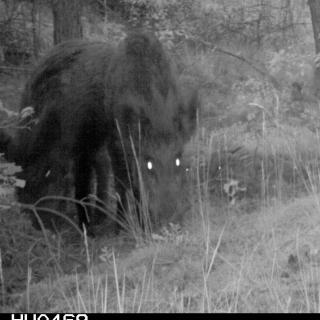Pig: (97, 26, 215, 245), (1, 26, 116, 241)
